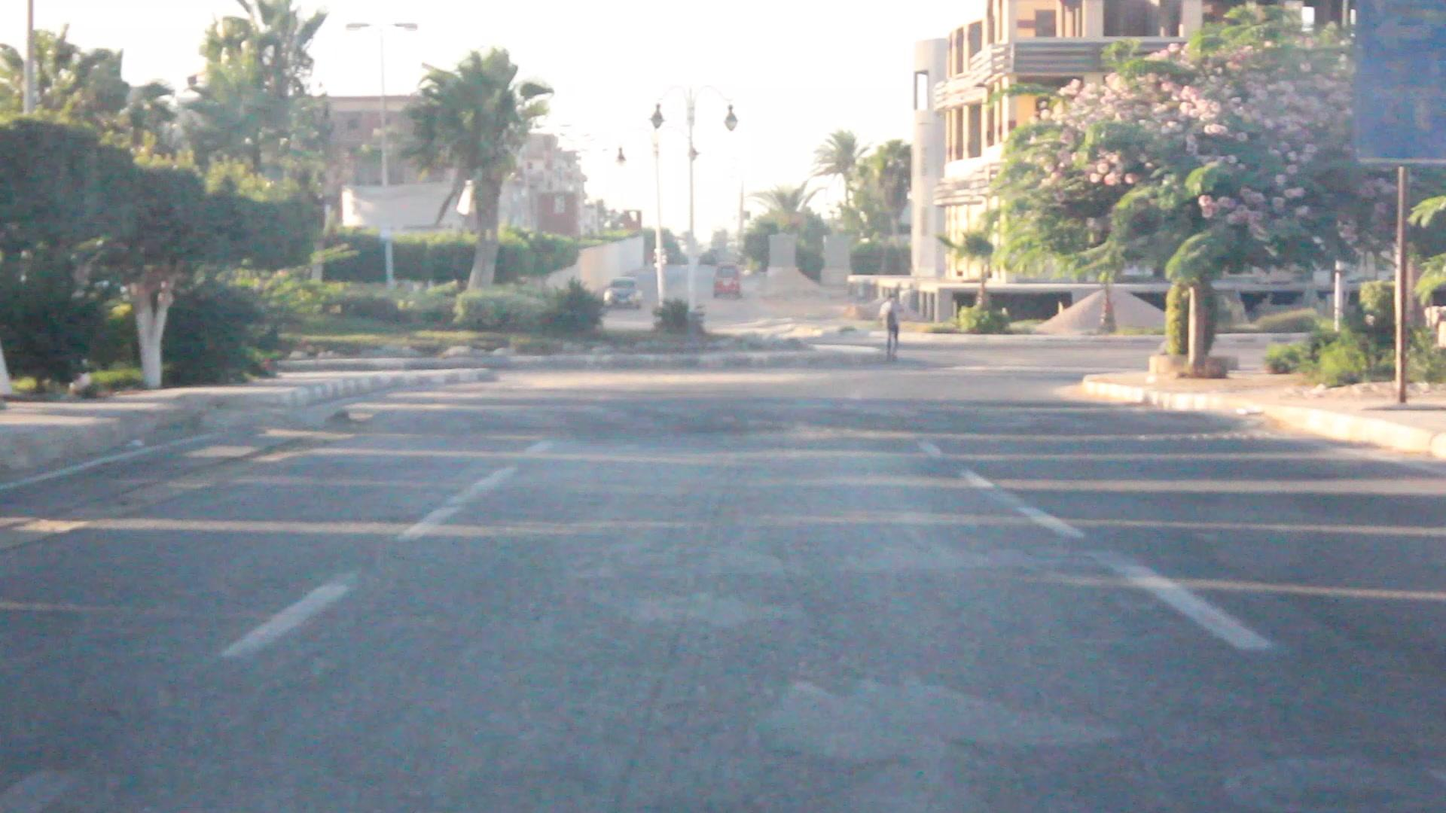Bump: (333, 391, 1246, 446)
